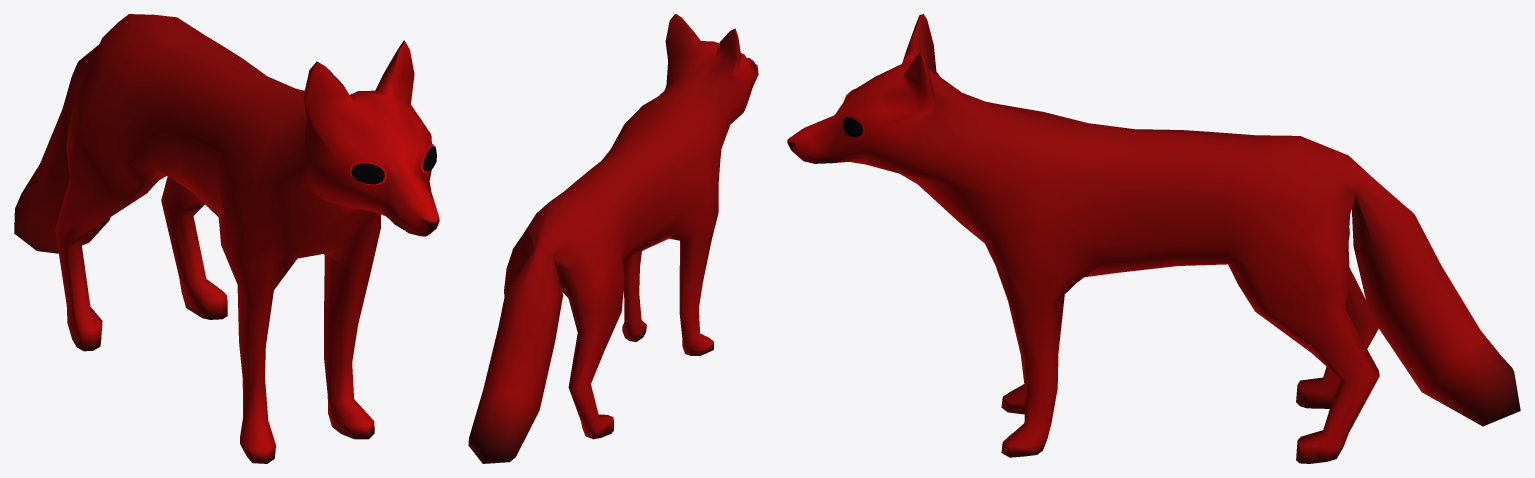
The model's file is Animals_KitFox.fbx.
3 renders of one model, left to right at view 1: azimuth 30°, elevation 25°; view 2: azimuth 150°, elevation 25°; view 3: azimuth 270°, elevation 25°, orthographic. The views are drawn at different scales.
Visible parts, largest first — view 1: base; view 2: base; view 3: base.
Part boxes in pixels (box(x1,y1,x2,y2)): base: box(14, 14, 439, 463); base: box(468, 14, 758, 463); base: box(787, 14, 1520, 463).
Size of the model in its own units: 29.25 by 82.38 by 138.
